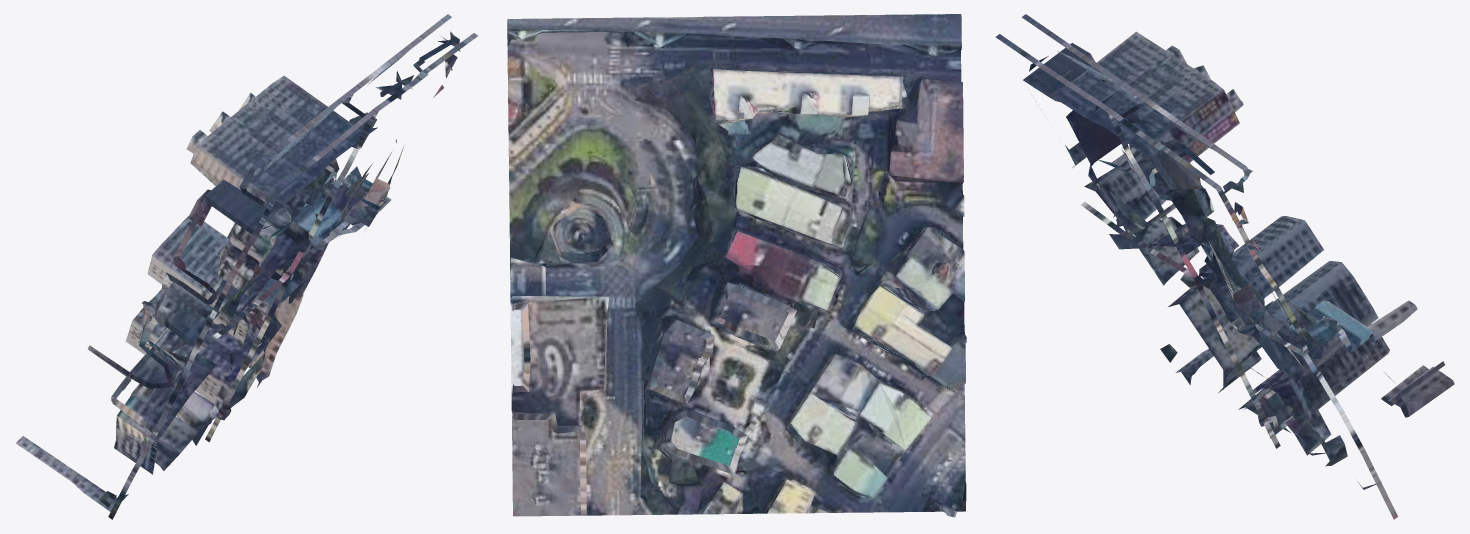
3 renders of one model, left to right at view 1: azimuth 30°, elevation 25°; view 2: azimuth 150°, elevation 25°; view 3: azimuth 270°, elevation 25°, orthographic. The views are drawn at different scales.
Size of the model in its own units: 170 by 143 by 151.
Materials: 1 (1 with a texture image).
